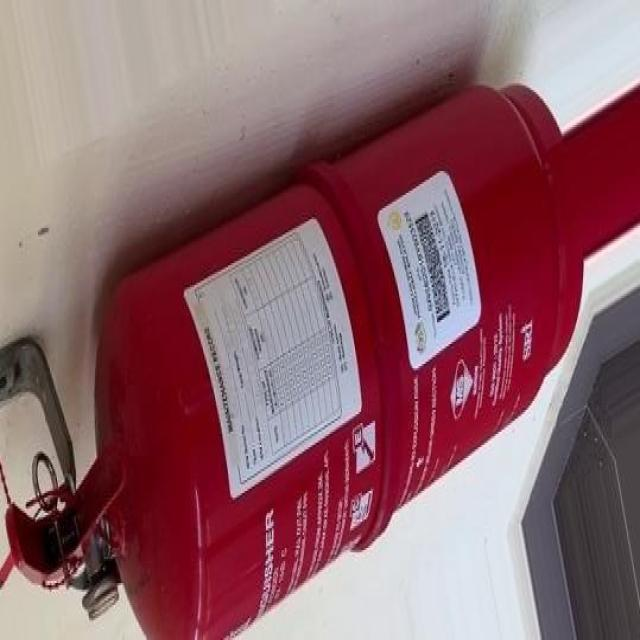fire_extinguisher: (0, 70, 585, 637)
